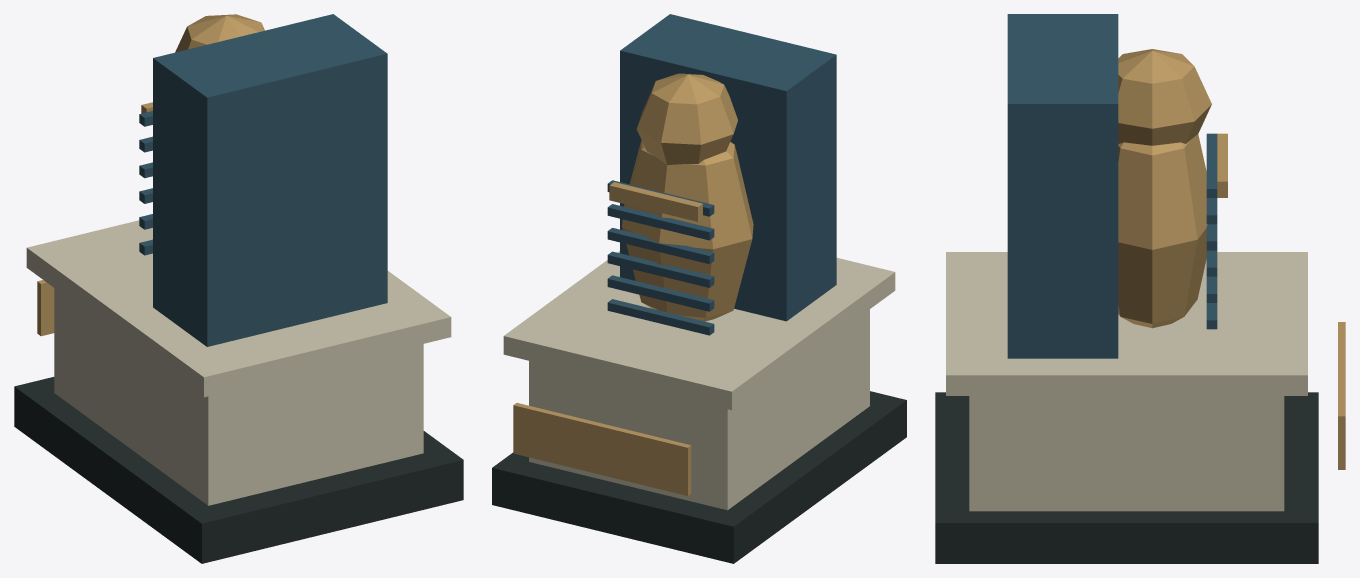
File: LP_Egypt_Sarcophagus.fbx
3 renders of one model, left to right at view 1: azimuth 30°, elevation 25°; view 2: azimuth 150°, elevation 25°; view 3: azimuth 270°, elevation 25°, orthographic. The views are drawn at different scales.
Parts seen in each view (by area): view 1: M_Museum_DeepBlue, M_Central_Limestone, Charcoal, AgedBrass; view 2: M_Central_Limestone, M_Museum_DeepBlue, AgedBrass, Charcoal; view 3: M_Central_Limestone, M_Museum_DeepBlue, Charcoal, AgedBrass.
Part boxes in pixels (x1,y1,x2,y2): M_Museum_DeepBlue: (139, 14, 387, 346); M_Central_Limestone: (26, 220, 451, 505); Charcoal: (14, 377, 463, 563); AgedBrass: (37, 14, 264, 336); M_Central_Limestone: (503, 251, 895, 510); M_Museum_DeepBlue: (607, 14, 836, 335); AgedBrass: (513, 73, 753, 495); Charcoal: (492, 391, 906, 563); M_Central_Limestone: (946, 252, 1307, 511); M_Museum_DeepBlue: (1007, 14, 1217, 358); Charcoal: (935, 392, 1318, 563); AgedBrass: (1118, 49, 1345, 469).
Size of the model in its own units: 150 by 240 by 199.
